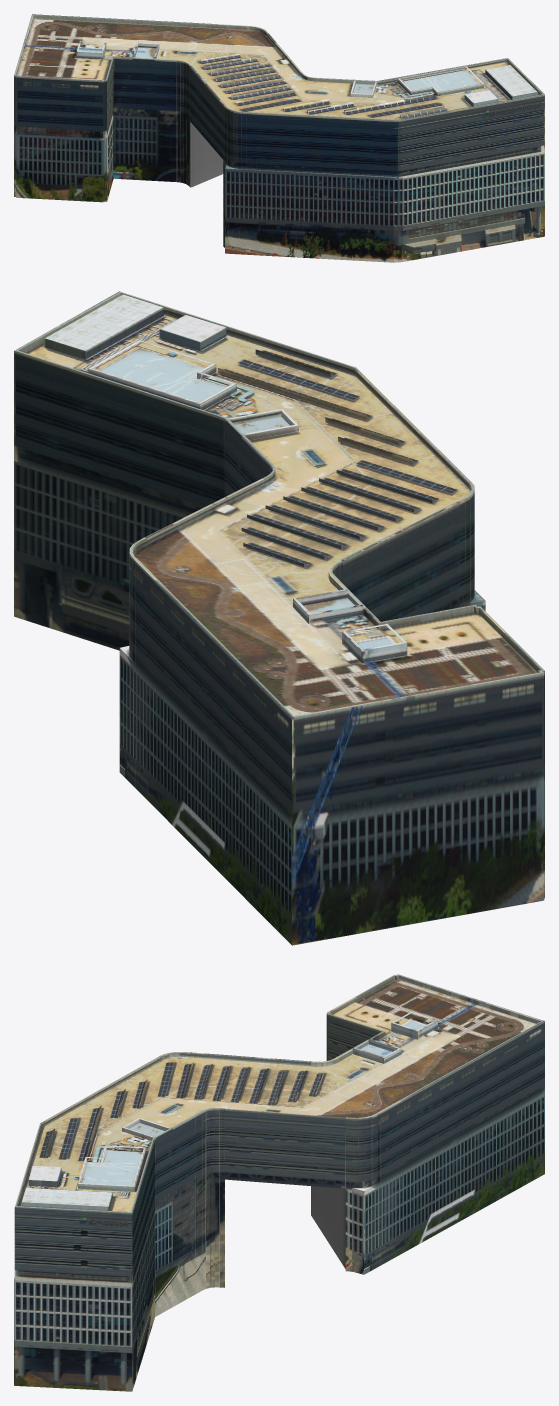
The picture shows the model from 3 angles, top to bottom: view 1: azimuth 30°, elevation 25°; view 2: azimuth 150°, elevation 25°; view 3: azimuth 270°, elevation 25°; orthographic projection. The views are drawn at different scales.
Size of the model in its own units: 129 by 45.97 by 121.
Materials: 1 (1 with a texture image).
